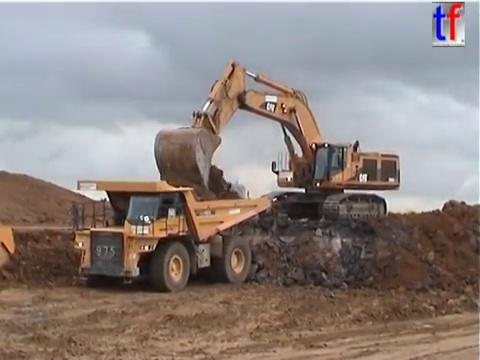excavator: (149, 56, 404, 228)
truck: (68, 178, 273, 294), (211, 184, 296, 228), (1, 224, 17, 270)
